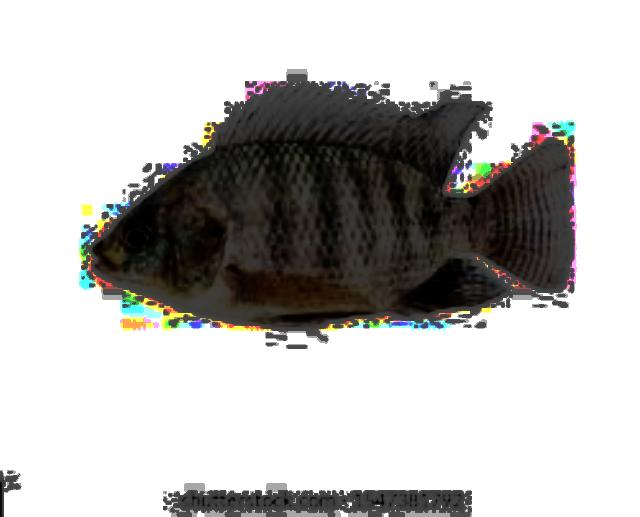Healthy Fish: (92, 82, 573, 330)
